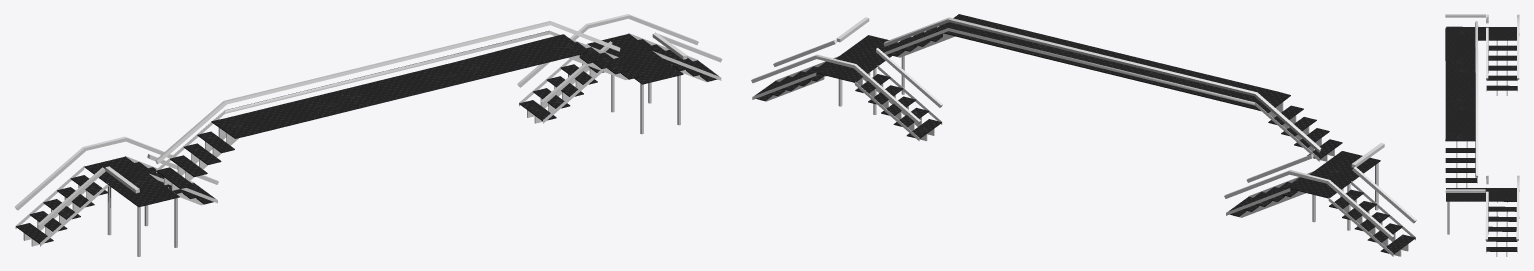
The model's file is stairs.fbx.
3 views of the same model, side by side, from view 1: azimuth 30°, elevation 25°; view 2: azimuth 150°, elevation 25°; view 3: azimuth 270°, elevation 25° (orthographic). The views are drawn at different scales.
Parts seen in each view (by area): view 1: Stairs/Catwalk.001, Stairs/Catwalk.002, legs; view 2: Stairs/Catwalk.001, Stairs/Catwalk.002, legs; view 3: Stairs/Catwalk.001, Stairs/Catwalk.002, legs.
Part boxes in pixels (x1=…): Stairs/Catwalk.001: x1=16, y1=30, x2=718, y2=243; Stairs/Catwalk.002: x1=14, y1=14, x2=722, y2=246; legs: x1=107, y1=74, x2=680, y2=256; Stairs/Catwalk.001: x1=754, y1=14, x2=1415, y2=254; Stairs/Catwalk.002: x1=751, y1=17, x2=1416, y2=256; legs: x1=838, y1=56, x2=1378, y2=230; Stairs/Catwalk.001: x1=1445, y1=26, x2=1517, y2=251; Stairs/Catwalk.002: x1=1445, y1=14, x2=1519, y2=256; legs: x1=1447, y1=41, x2=1488, y2=234.
Bounding box in the file's own units: 4151 × 660 × 598.
Materials: 2 (1 with a texture image).
